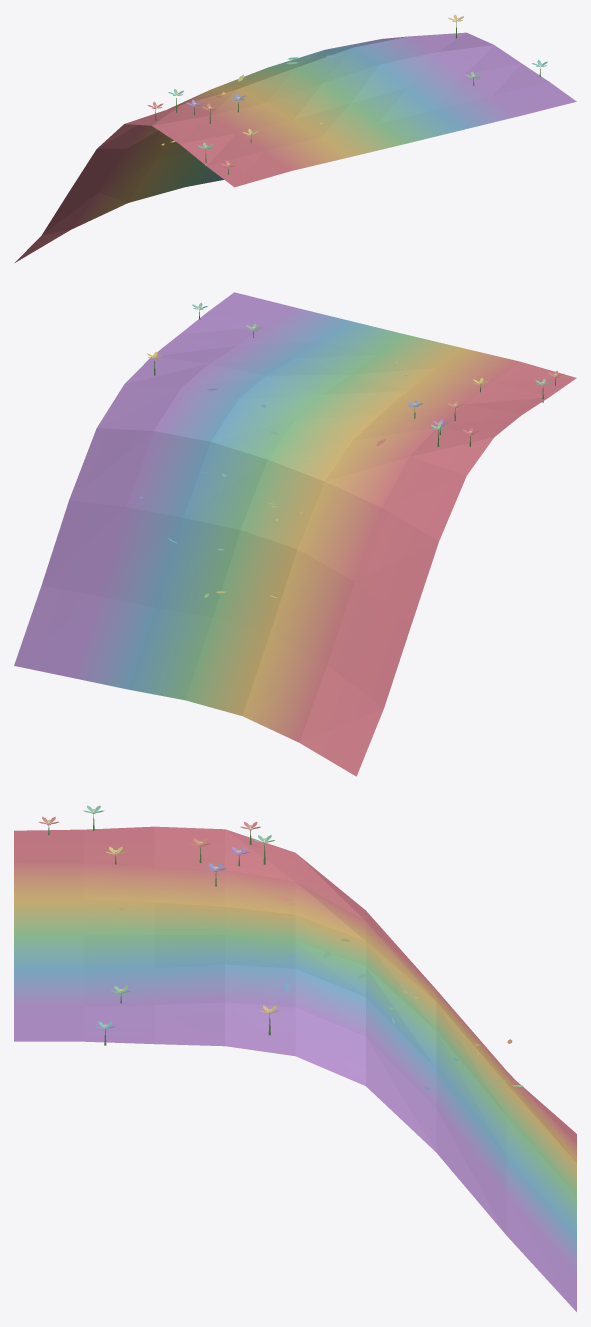
File: rb_endcap_island.meshopt.glb
3 renders of one model, top to bottom at view 1: azimuth 30°, elevation 25°; view 2: azimuth 150°, elevation 25°; view 3: azimuth 270°, elevation 25°, orthographic. The views are drawn at different scales.
Bounding box in the file's own units: 3.61 × 2.49 × 3.9.
